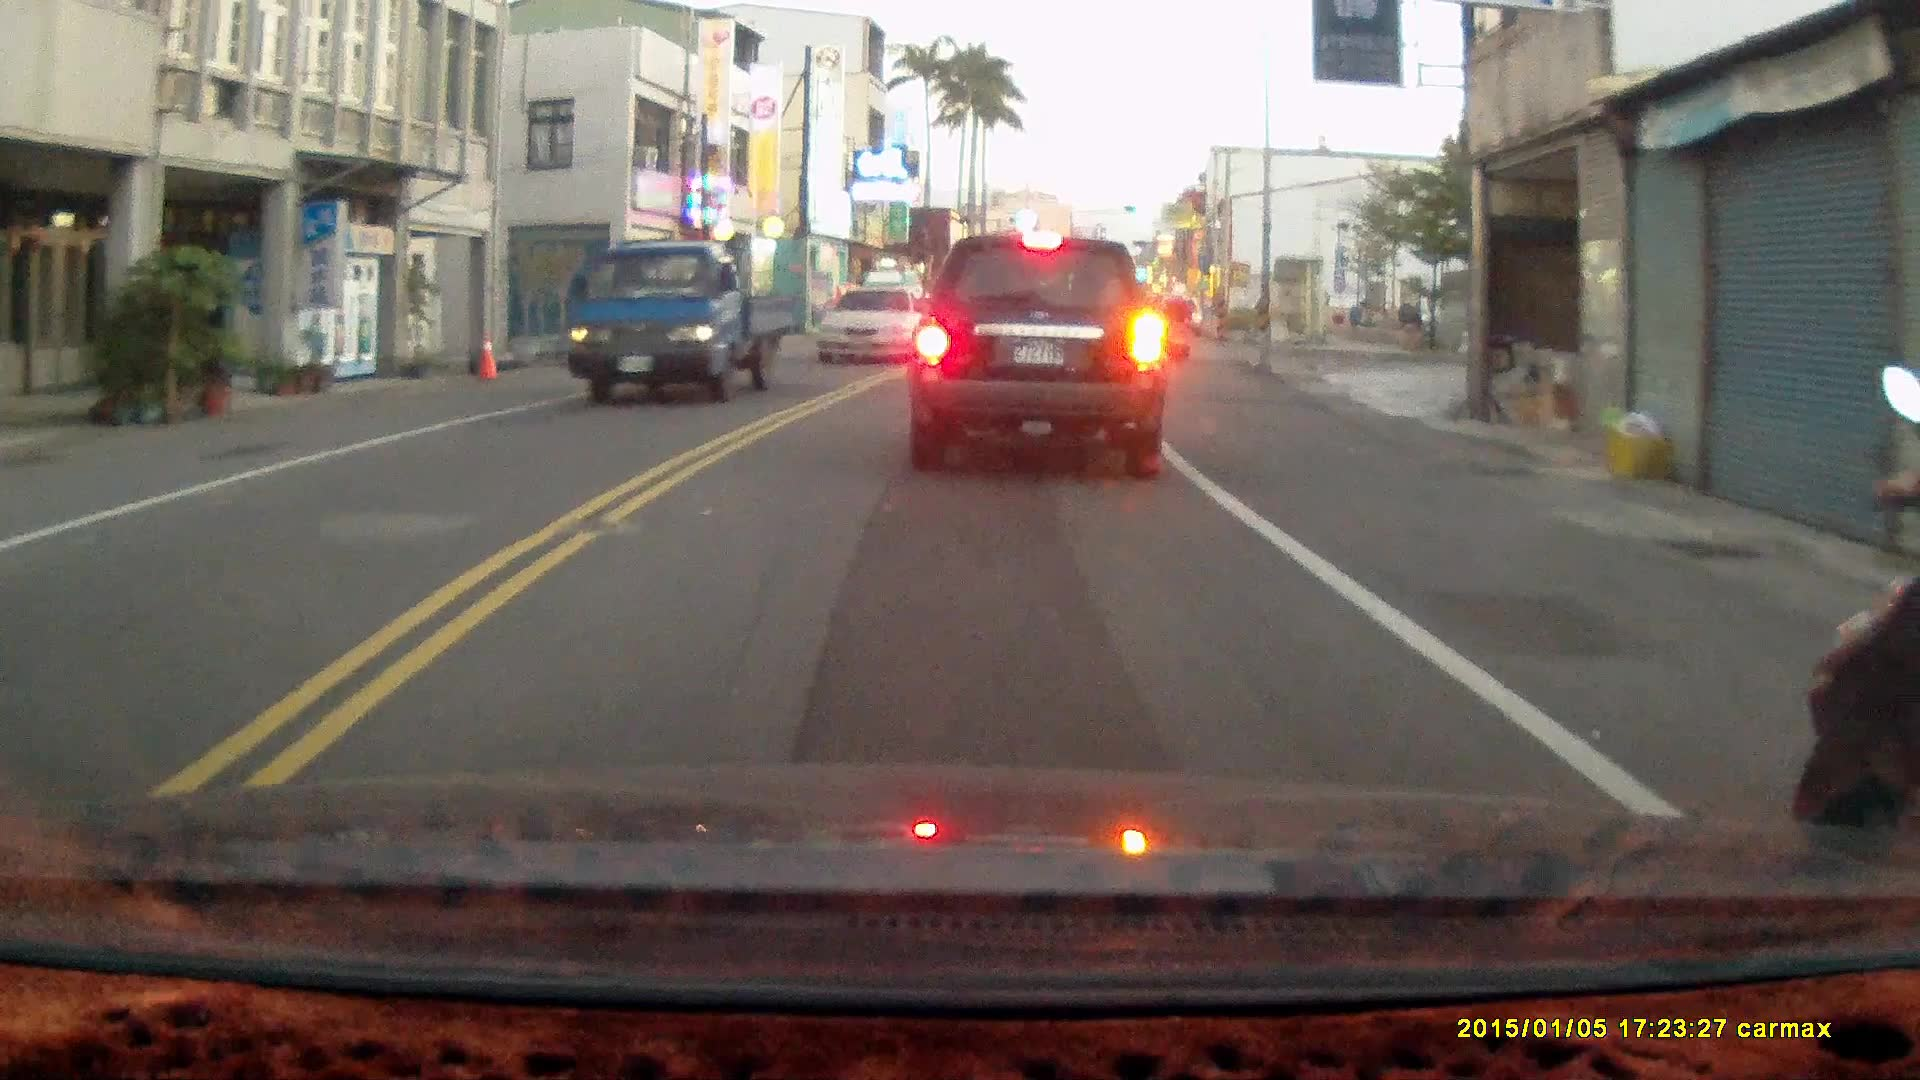rider: (1160, 282, 1191, 365)
vehicle: (908, 229, 1173, 478), (553, 230, 796, 398), (820, 283, 934, 366)
